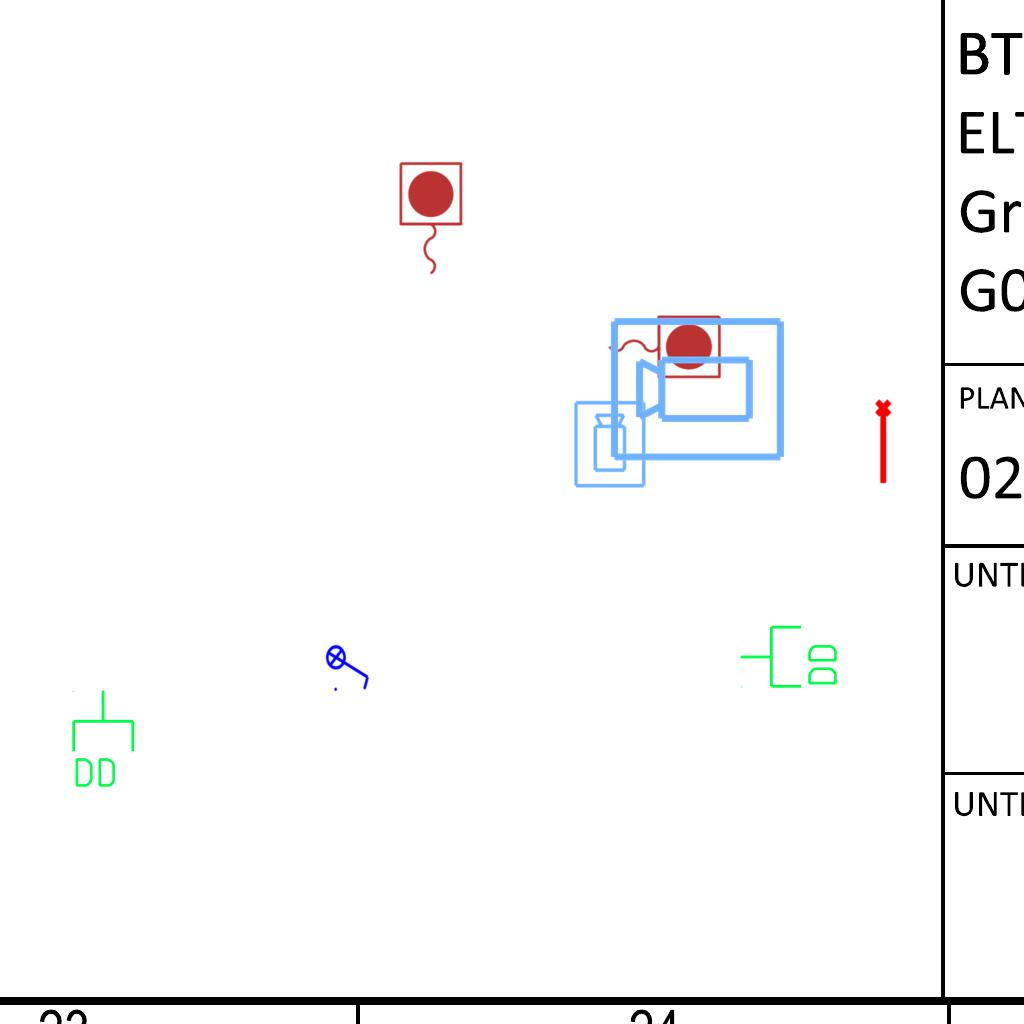ASR_Ansaugoeffnung: (873, 398, 896, 486)
Ausschalter_beleuchtet: (325, 638, 373, 694)
Datenanschluss_zweifach: (738, 623, 841, 692), (68, 688, 137, 791)
KFO_Kamera_mit_Festobjektiv: (607, 311, 789, 465), (572, 399, 649, 490)
Zugtaster: (603, 310, 725, 382), (394, 158, 466, 280)
